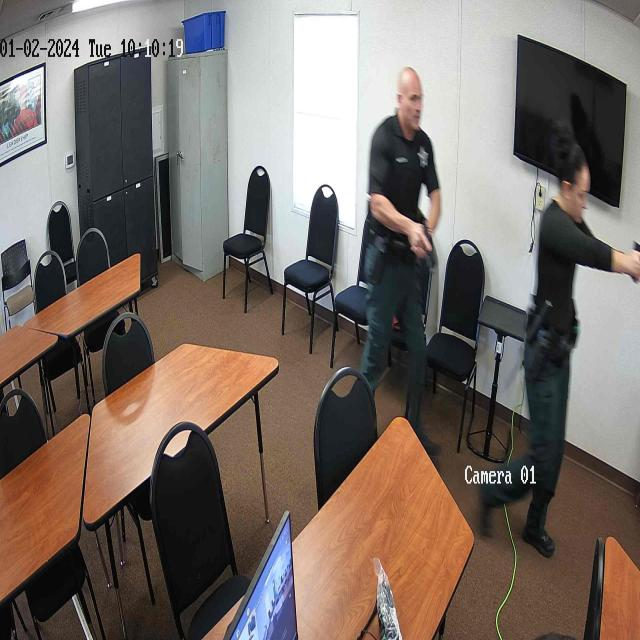weapon: (415, 221, 437, 276), (631, 242, 640, 286)
